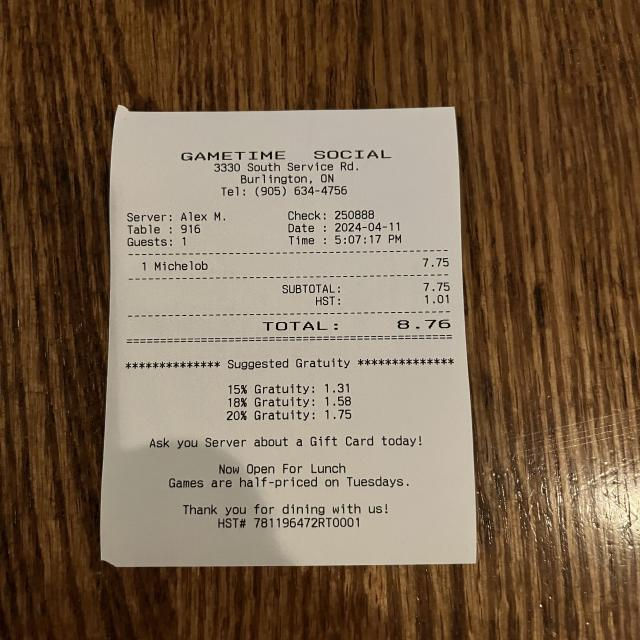item: (149, 251, 457, 275)
store_name: (172, 145, 406, 166)
total_amount: (261, 312, 458, 340)
transaction_date: (327, 218, 408, 236)
